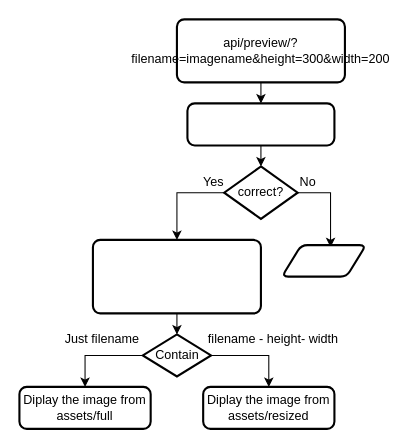
Image size: 407x447. Some labels were removed from this diagram. Each missing label, with the box of its shape:
Check if the parameters contain Just filename or filename and height and width: (91, 238, 261, 314)
Check url parameters to see if correct types: (186, 102, 335, 146)
Print Error: (280, 244, 366, 277)
